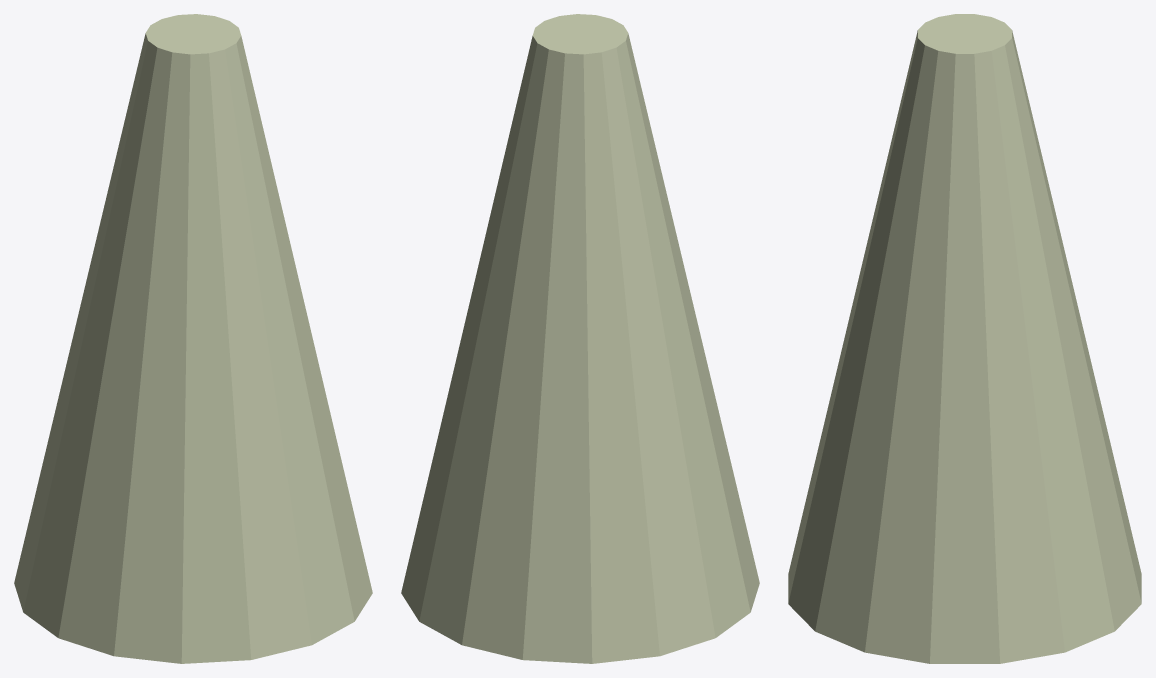
The model's file is rotanev_nose_cone_s0p5_1_collider.obj.
3 views of the same model, side by side, from view 1: azimuth 30°, elevation 25°; view 2: azimuth 150°, elevation 25°; view 3: azimuth 270°, elevation 25° (orthographic).
Visible parts, largest first — view 1: rotanev_nose_cone_s0p5_1_collider; view 2: rotanev_nose_cone_s0p5_1_collider; view 3: rotanev_nose_cone_s0p5_1_collider.
Boxes of the visible parts, left/top/right/bottom form: rotanev_nose_cone_s0p5_1_collider: left=14, top=14, right=372, bottom=663; rotanev_nose_cone_s0p5_1_collider: left=401, top=14, right=759, bottom=663; rotanev_nose_cone_s0p5_1_collider: left=788, top=14, right=1141, bottom=663.
Size of the model in its own units: 0.9375 by 1.62 by 0.9375.
